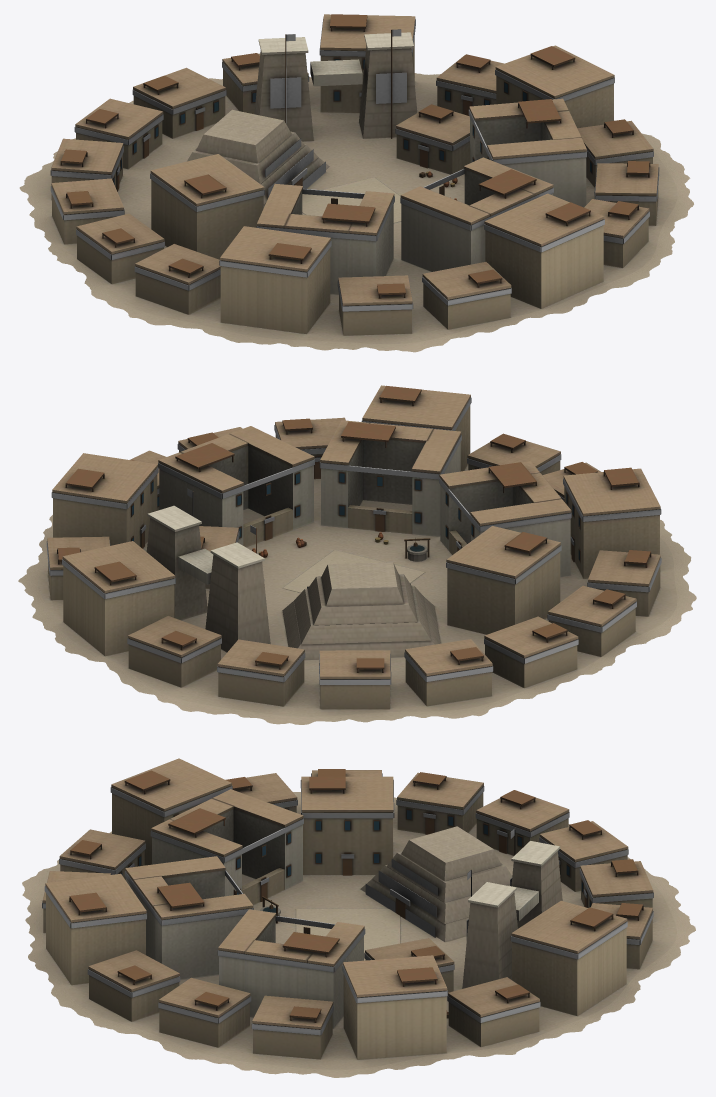
File: bronze-town-big-b-nile-0a77a4de.glb
3 views of the same model, one above another, from view 1: azimuth 30°, elevation 25°; view 2: azimuth 150°, elevation 25°; view 3: azimuth 270°, elevation 25° (orthographic).
Parts seen in each view (by area): view 1: LOD0; view 2: LOD0; view 3: LOD0.
Part boxes in pixels (x1,y1,x2,y2): LOD0: [19, 14, 693, 352]; LOD0: [18, 385, 696, 724]; LOD0: [22, 758, 695, 1077].
Size of what is drawn, in the model's own units: 8.02 by 1.42 by 7.96.
Materials: 3 (3 with a texture image).
